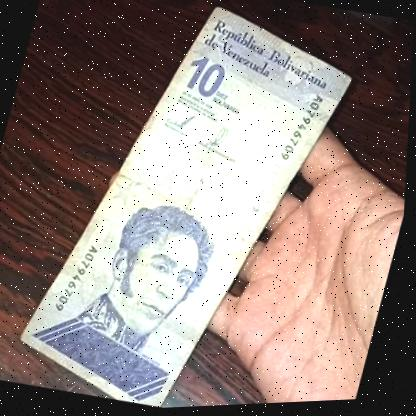ten-front-vef: (7, 0, 366, 415)
